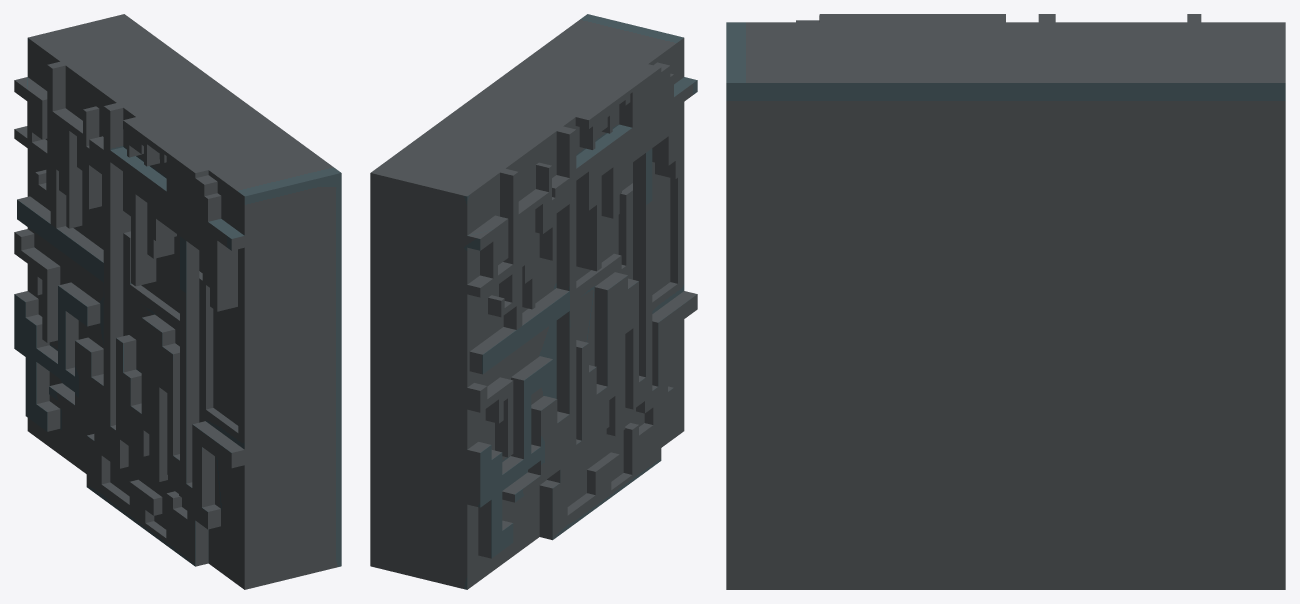
File: EspacioContenidoParedExteriorNS.gltf
The picture shows the model from 3 angles, left to right: view 1: azimuth 30°, elevation 25°; view 2: azimuth 150°, elevation 25°; view 3: azimuth 270°, elevation 25°; orthographic projection. The views are drawn at different scales.
Visible parts, largest first — view 1: Cubo.24; view 2: Cubo.24; view 3: Cubo.24.
Part boxes in pixels (x1=…): Cubo.24: x1=14, y1=14, x2=341, y2=589; Cubo.24: x1=370, y1=14, x2=697, y2=589; Cubo.24: x1=726, y1=14, x2=1285, y2=589.
Bounding box in the file's own units: 0.585 × 2 × 2.
1 material, 1 textured.
